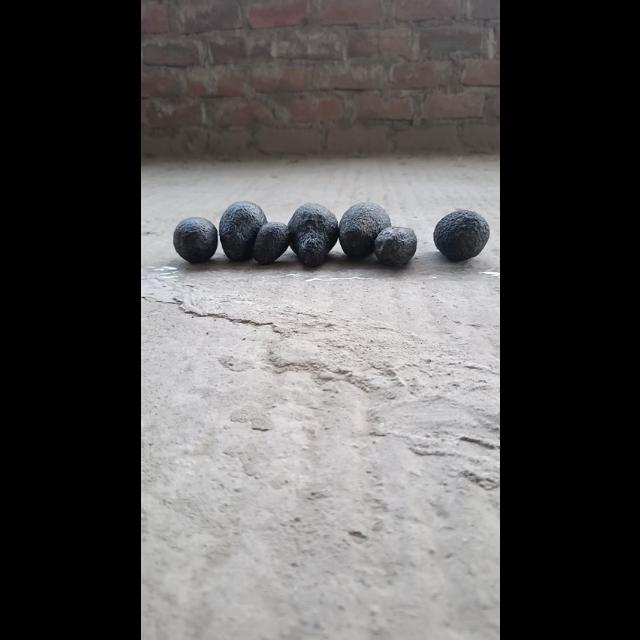Primera: (286, 202, 338, 266), (432, 208, 491, 262), (218, 200, 266, 262), (338, 202, 390, 258)
Segunda: (170, 215, 218, 262), (372, 225, 418, 267)
Tercera: (250, 221, 290, 265)
